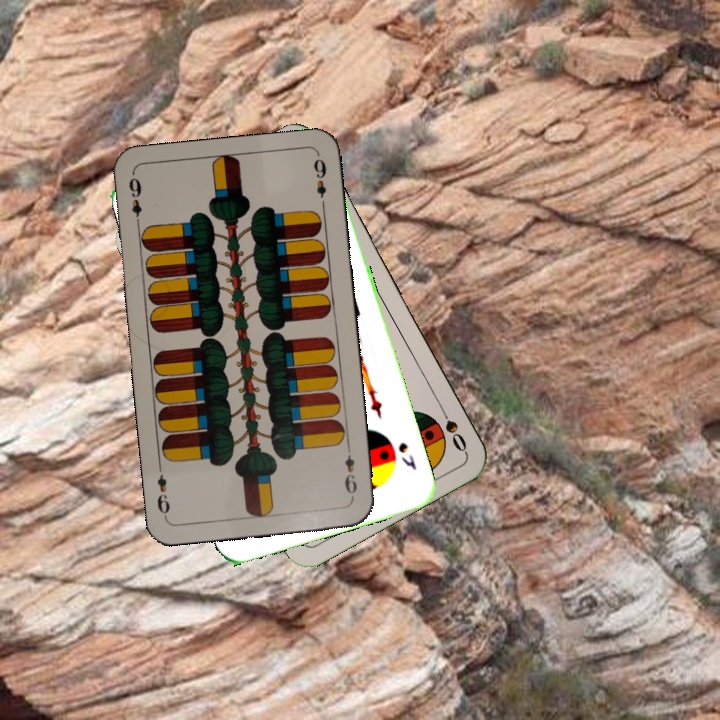E9: (340, 442, 360, 501), (124, 173, 144, 231)
SK: (394, 438, 419, 473)
SO: (435, 400, 470, 455)
